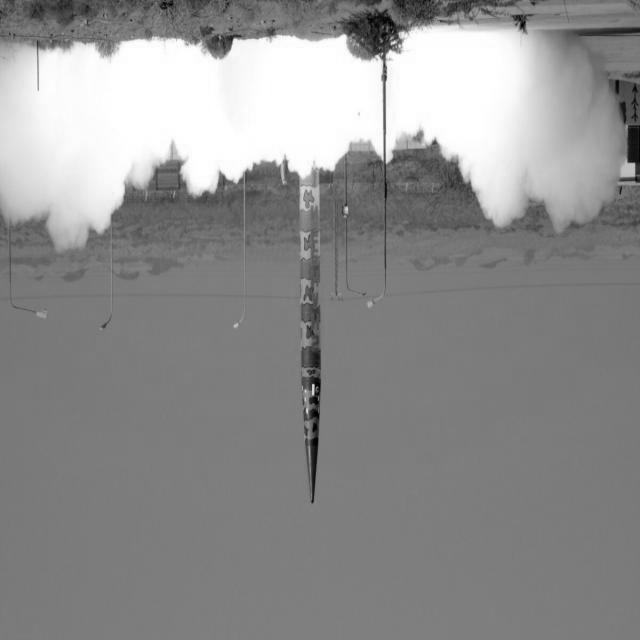Missile: (293, 156, 328, 517)
